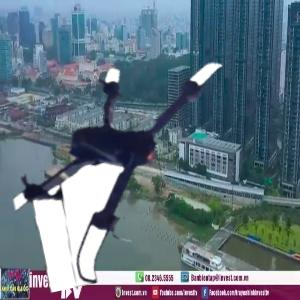drone: (5, 31, 249, 275)
